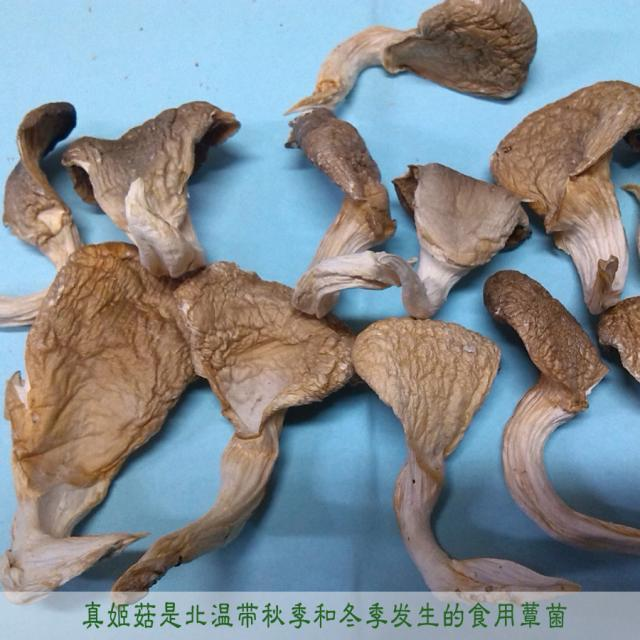Hypsizygus marmoreus: (139, 260, 359, 589), (0, 249, 193, 582), (354, 313, 566, 598), (488, 269, 640, 558), (296, 159, 521, 330), (495, 79, 640, 307), (261, 0, 536, 116), (60, 104, 241, 263), (1, 96, 96, 330)
